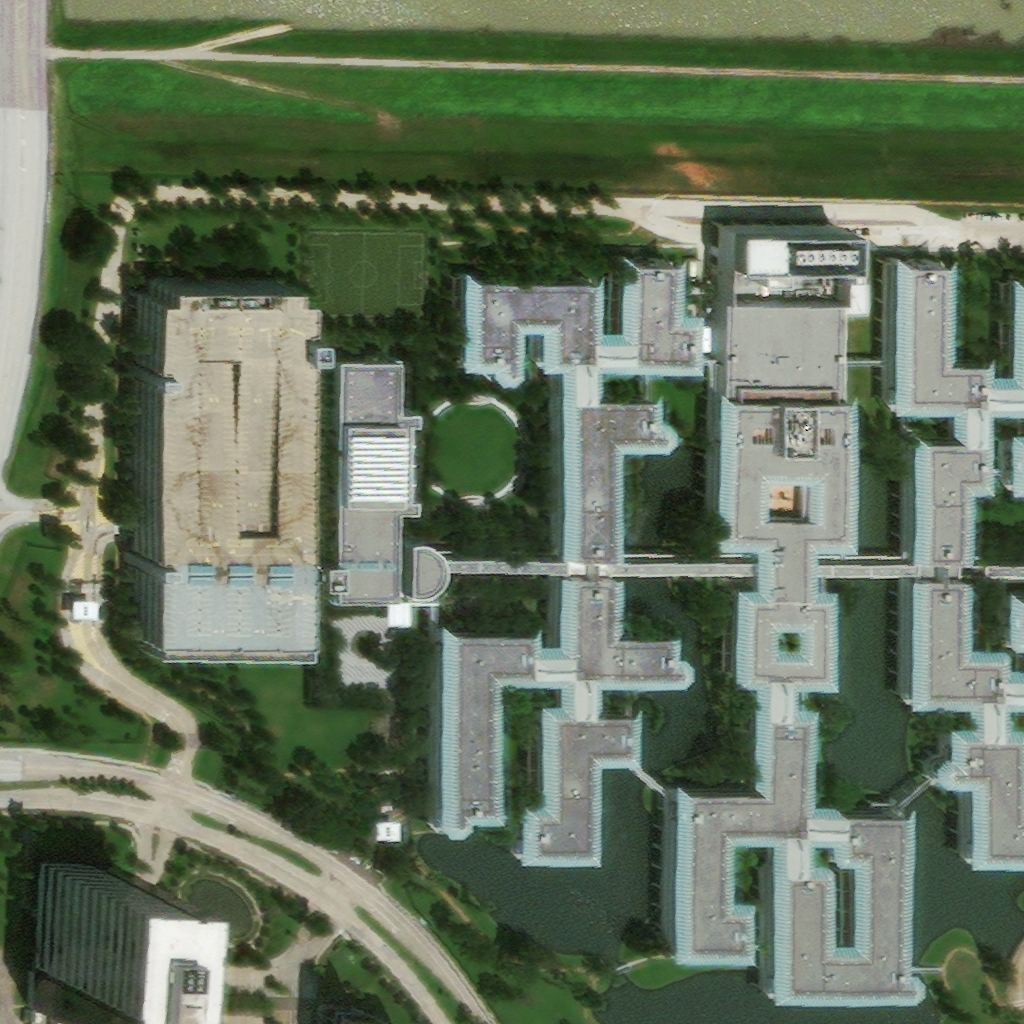unclassified: (129, 260, 298, 651), (638, 695, 832, 958), (425, 386, 664, 575), (704, 358, 881, 585), (752, 794, 946, 999), (311, 337, 426, 626), (517, 546, 689, 702), (689, 247, 871, 389), (425, 604, 517, 836), (505, 691, 631, 858), (881, 244, 983, 433), (30, 807, 119, 1023), (449, 257, 591, 390), (579, 240, 714, 373), (880, 417, 981, 583), (897, 566, 1000, 725), (922, 715, 1022, 864), (722, 575, 825, 703), (970, 265, 1022, 493), (715, 205, 838, 273), (322, 947, 406, 1023), (987, 582, 1022, 719), (841, 554, 881, 583), (761, 848, 805, 873), (290, 528, 312, 571), (984, 557, 1022, 581), (895, 775, 927, 803), (69, 596, 97, 619), (375, 820, 400, 841), (705, 485, 756, 495), (624, 758, 646, 779), (688, 553, 706, 576), (961, 557, 985, 573), (429, 566, 450, 584), (429, 583, 437, 604), (748, 941, 753, 948)
